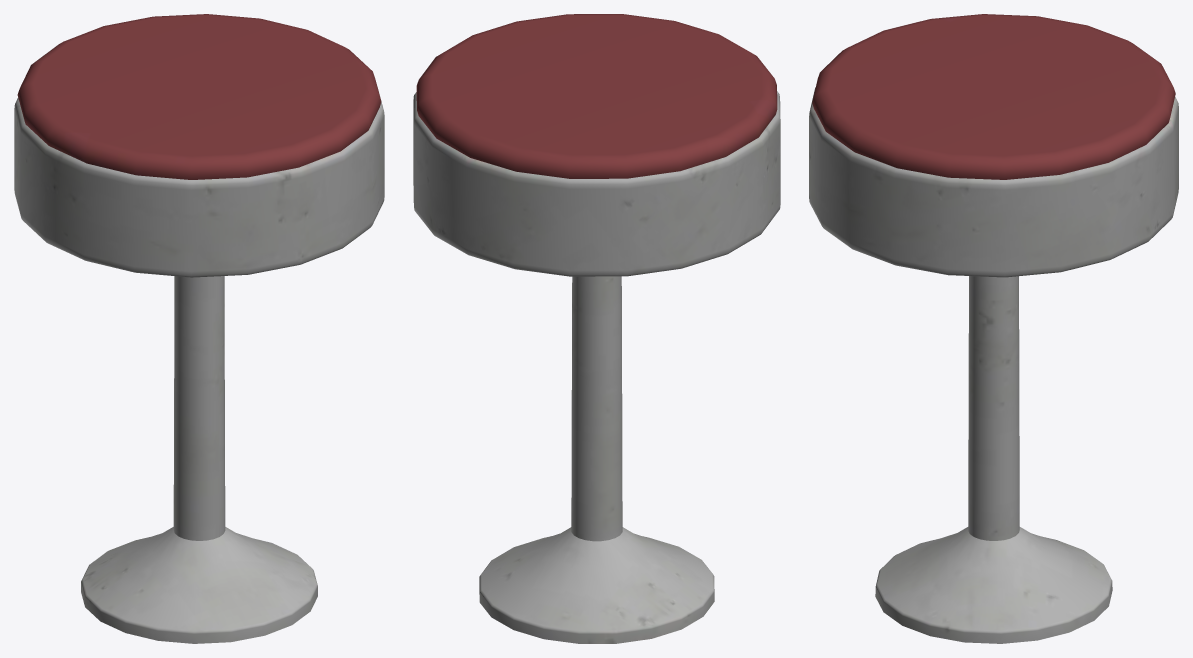
Rendered from stool.glb.
The picture shows the model from 3 angles, left to right: view 1: azimuth 30°, elevation 25°; view 2: azimuth 150°, elevation 25°; view 3: azimuth 270°, elevation 25°; orthographic projection.
Visible parts, largest first — view 1: Stool_low; view 2: Stool_low; view 3: Stool_low.
Boxes of the visible parts, <box> form: Stool_low: <box>14,14,384,643</box>; Stool_low: <box>413,14,780,643</box>; Stool_low: <box>809,14,1178,643</box>.
Bounding box in the file's own units: 0.5015 × 0.76 × 0.5015.
Materials: 1 (1 with a texture image).
